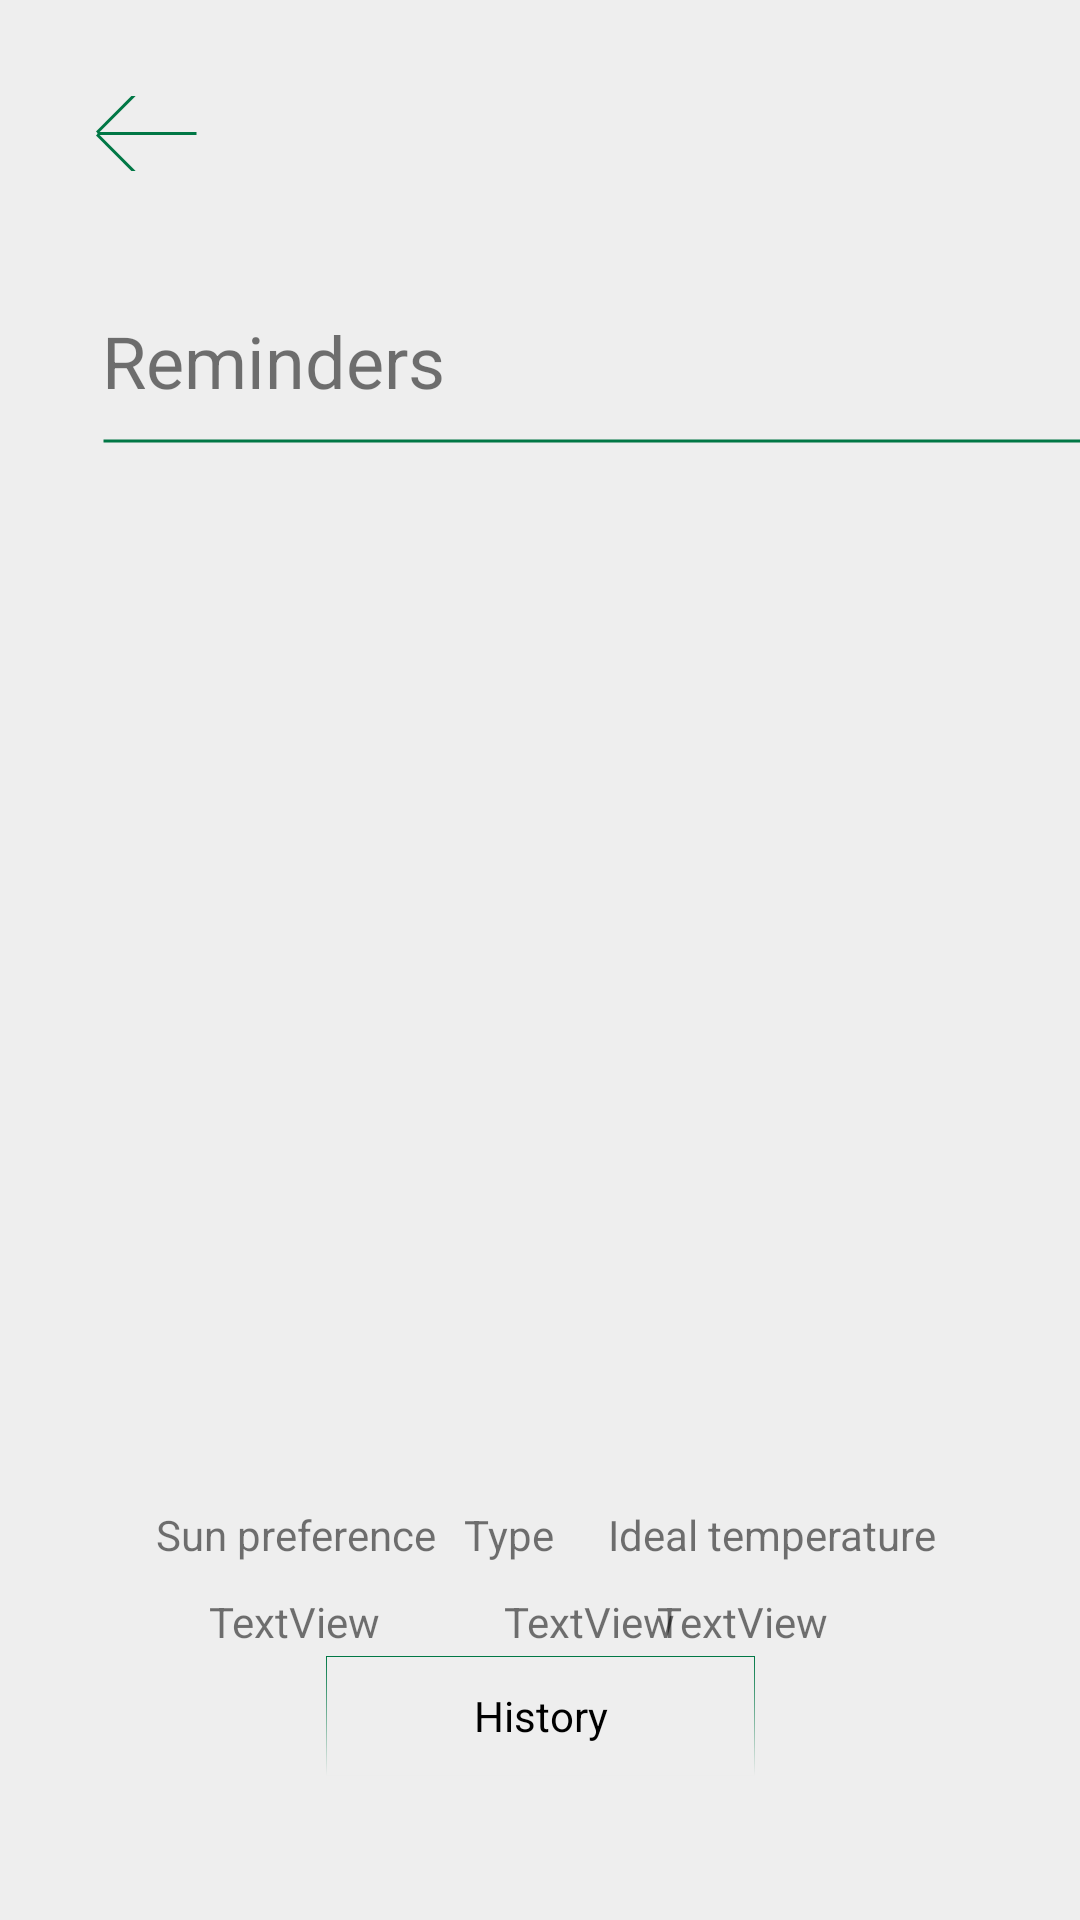

Where to tap for icons on this 1080 × 1920 app screen, as (x,y):
arrow: (146,133)
